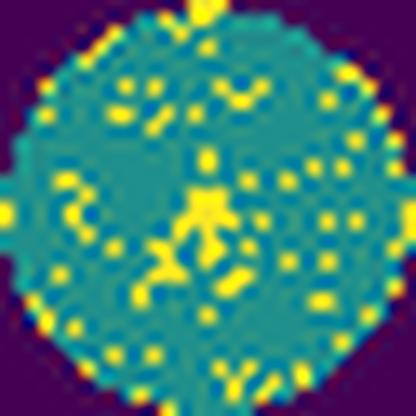Center: (132, 182, 242, 313)
